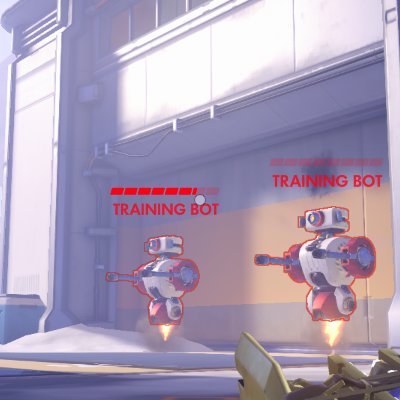hpbar: (269, 157, 384, 167), (110, 187, 220, 196)
